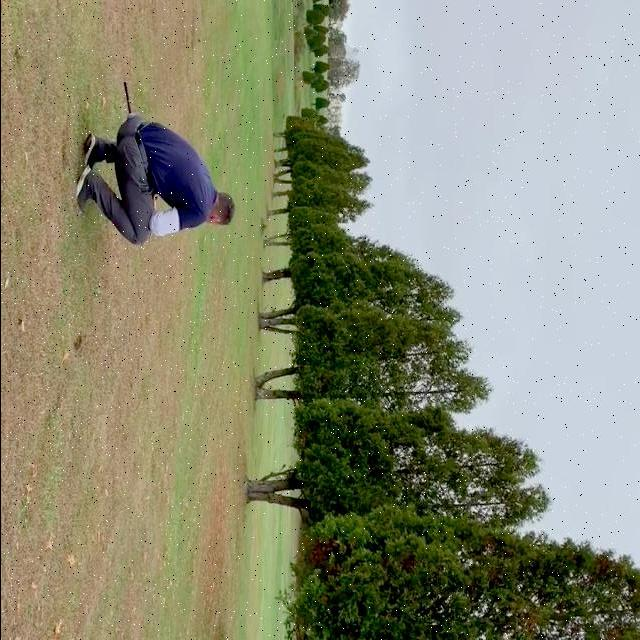golf club-handle: (122, 81, 130, 113)
